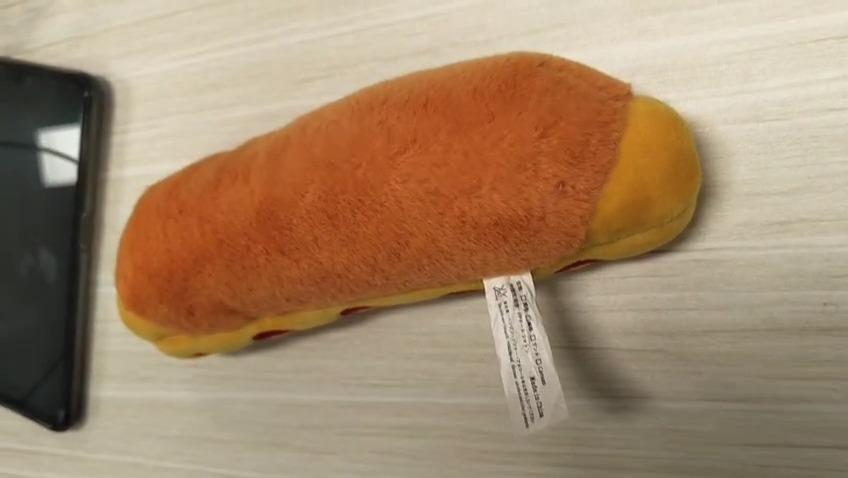hotdog: (113, 53, 703, 358)
